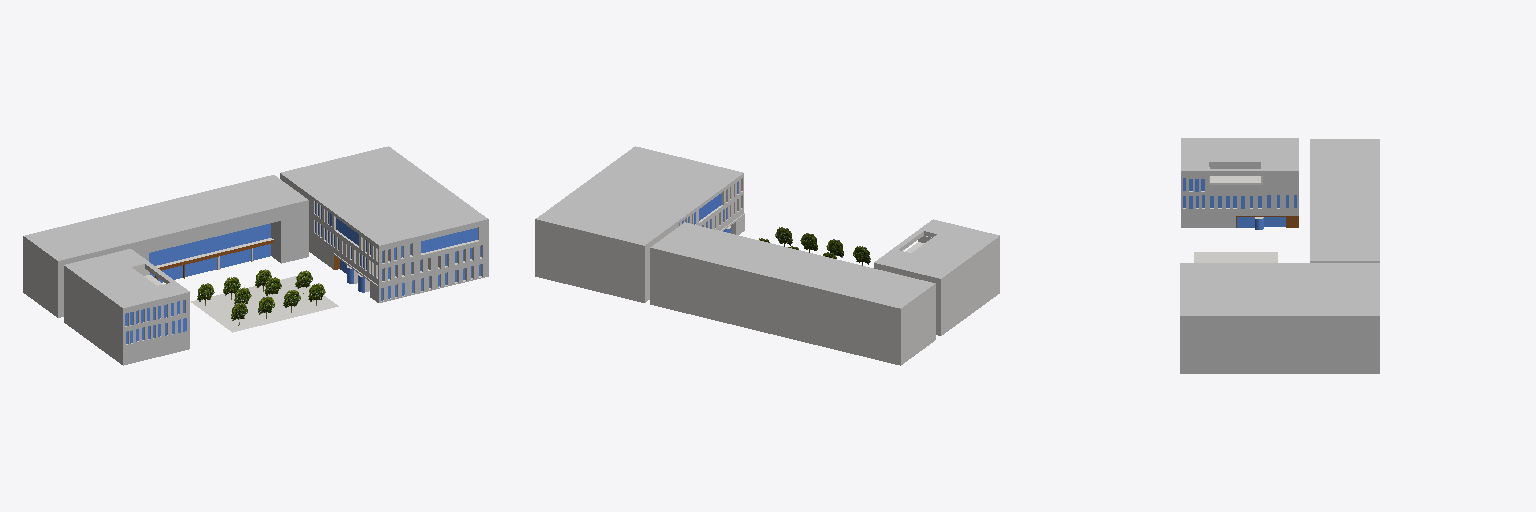
3 renders of one model, left to right at view 1: azimuth 30°, elevation 25°; view 2: azimuth 150°, elevation 25°; view 3: azimuth 270°, elevation 25°, orthographic.
Parts seen in each view (by area): view 1: Mesh2 Model, Mesh1 Model, Mesh3 Model, Mesh4 Model; view 2: Mesh1 Model, Mesh2 Model, Mesh3 Model; view 3: Mesh2 Model, Mesh3 Model, Mesh1 Model, Mesh4 Model.
Boxes of the visible parts, x1,y1,x2,y2 form: Mesh2 Model: [280, 146, 488, 302]; Mesh1 Model: [23, 175, 308, 317]; Mesh3 Model: [64, 249, 189, 365]; Mesh4 Model: [191, 276, 338, 332]; Mesh1 Model: [650, 222, 935, 365]; Mesh2 Model: [535, 146, 744, 302]; Mesh3 Model: [874, 219, 999, 335]; Mesh2 Model: [1180, 263, 1379, 373]; Mesh3 Model: [1181, 138, 1298, 229]; Mesh1 Model: [1310, 139, 1379, 262]; Mesh4 Model: [1194, 252, 1277, 262].
Bounding box in the file's own units: 152 × 22.86 × 71.92.
5 materials, 1 textured.